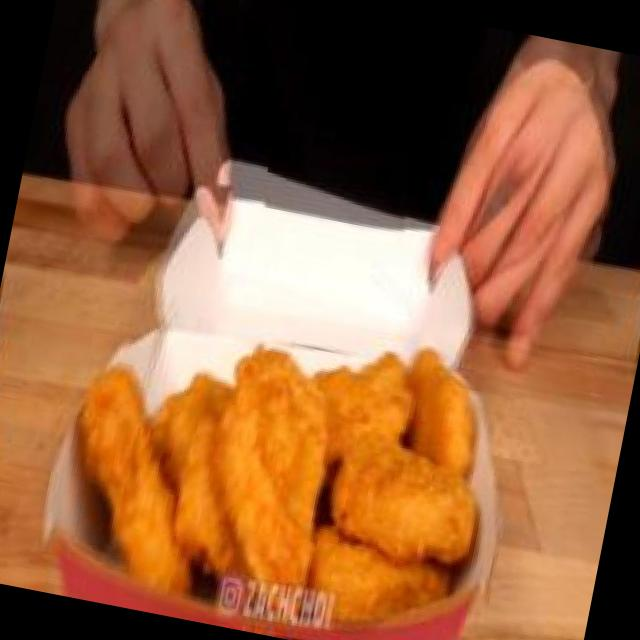nugget: (39, 254, 521, 640)
